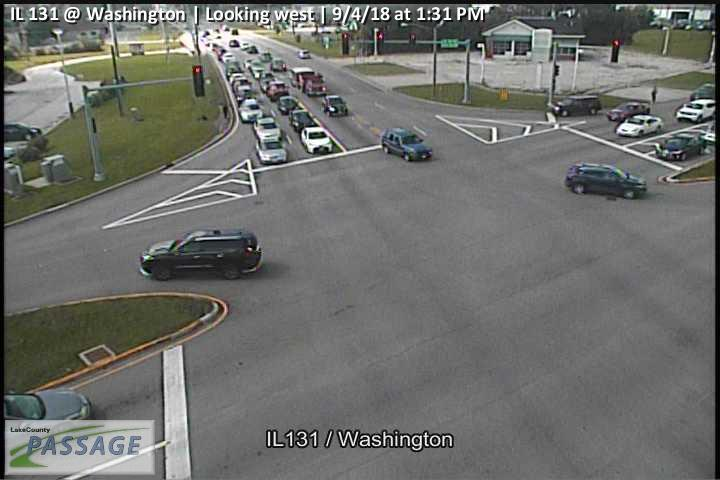SUV: (140, 228, 265, 279), (563, 159, 648, 198), (378, 126, 433, 161), (553, 92, 603, 118)
Sedan: (652, 129, 708, 161), (673, 96, 718, 122), (614, 114, 662, 138), (299, 125, 333, 155), (255, 134, 287, 164), (608, 100, 651, 121), (289, 108, 317, 135), (253, 117, 283, 141), (321, 94, 349, 117), (238, 98, 264, 122), (264, 79, 289, 101), (276, 95, 299, 114)
Truck: (288, 65, 327, 96)
